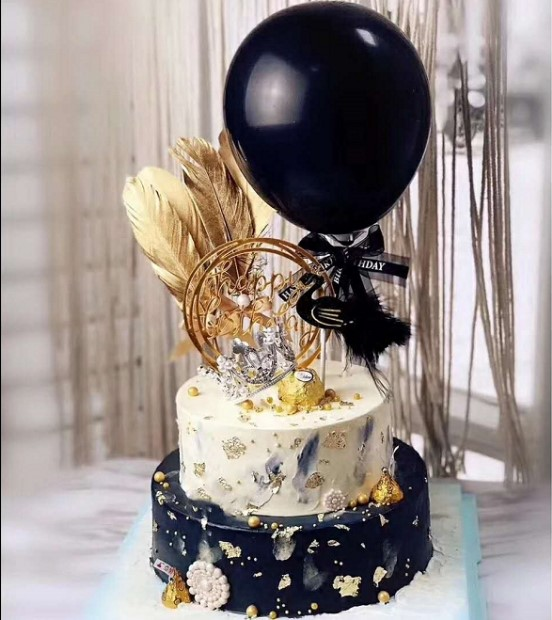balloon: (225, 1, 427, 229)
